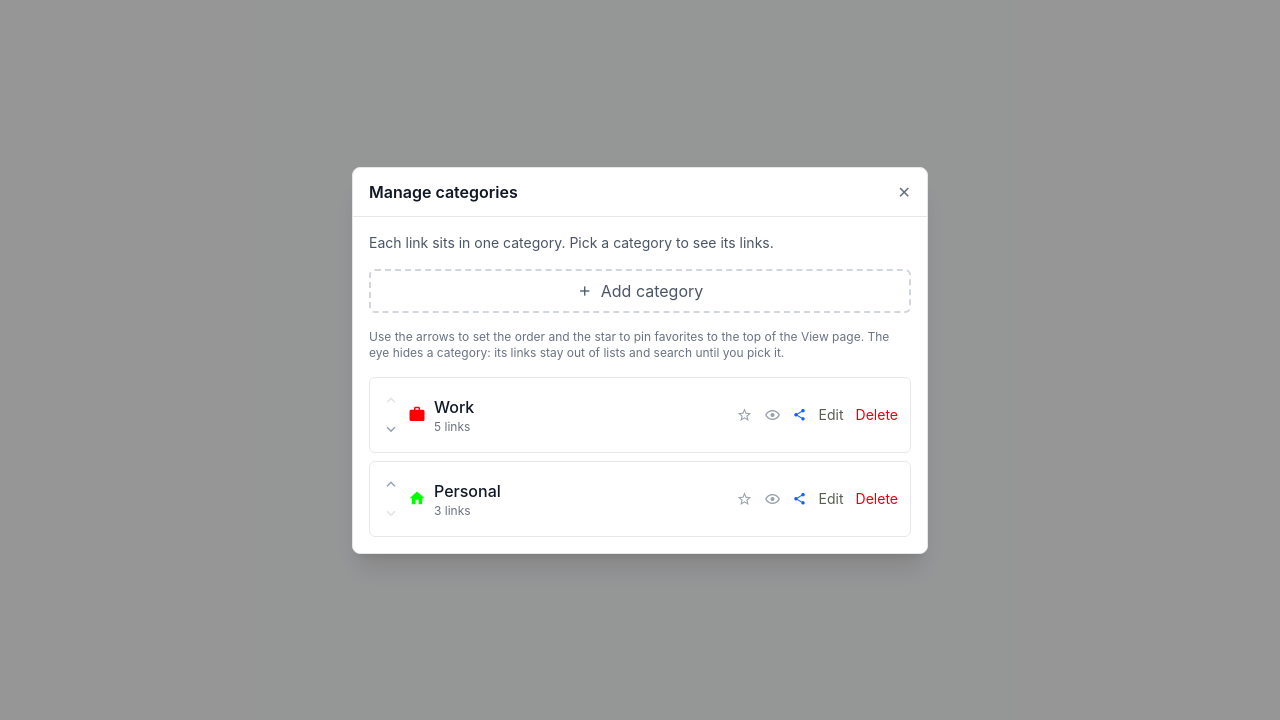
Test: CategoryManager › Share link › says the link works for one person
Click the button titled "Share" in the row of "Work" at (800, 414), box [793, 404, 807, 424]
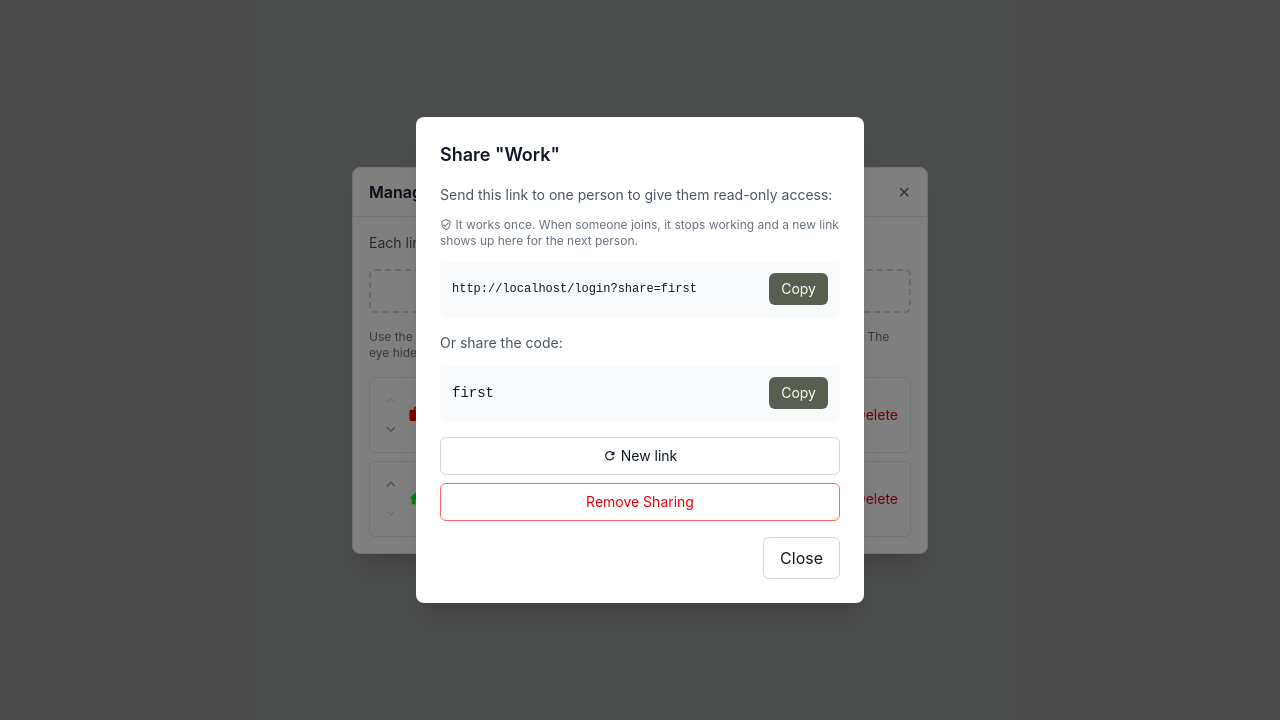
Expected: the element with test id "share-single-use" shows "It works once", [440, 217, 839, 248]
